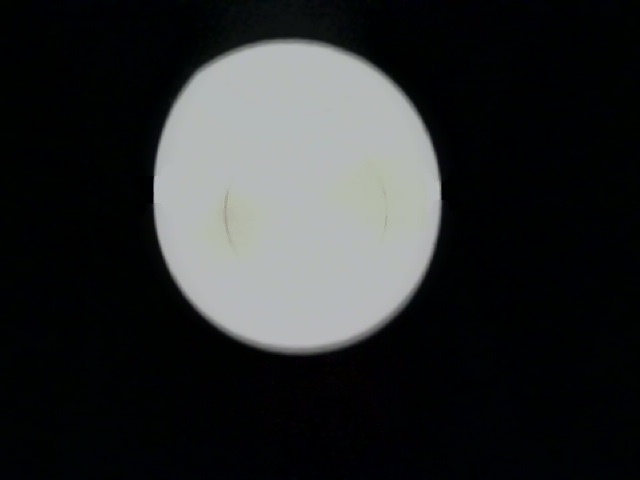KHSLJ: (21, 163, 550, 477)
